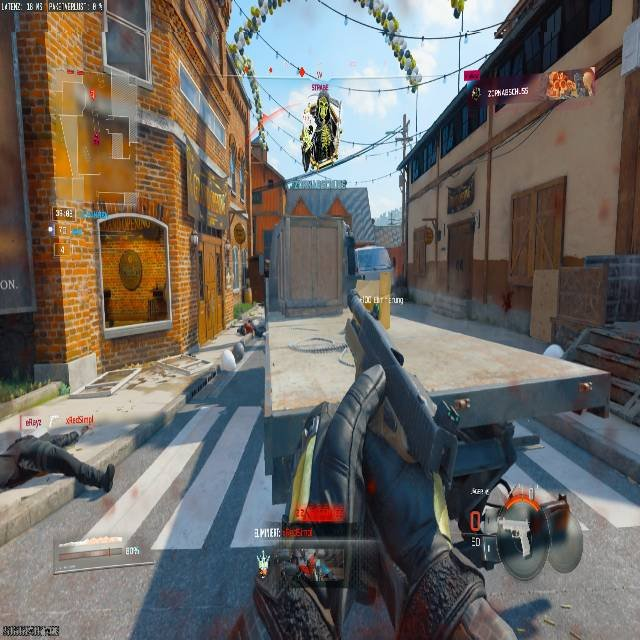player: (0, 429, 115, 500)
